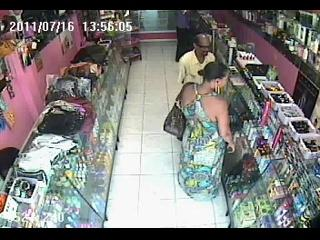Normal: (177, 62, 236, 202), (177, 34, 216, 86), (163, 96, 186, 141)
